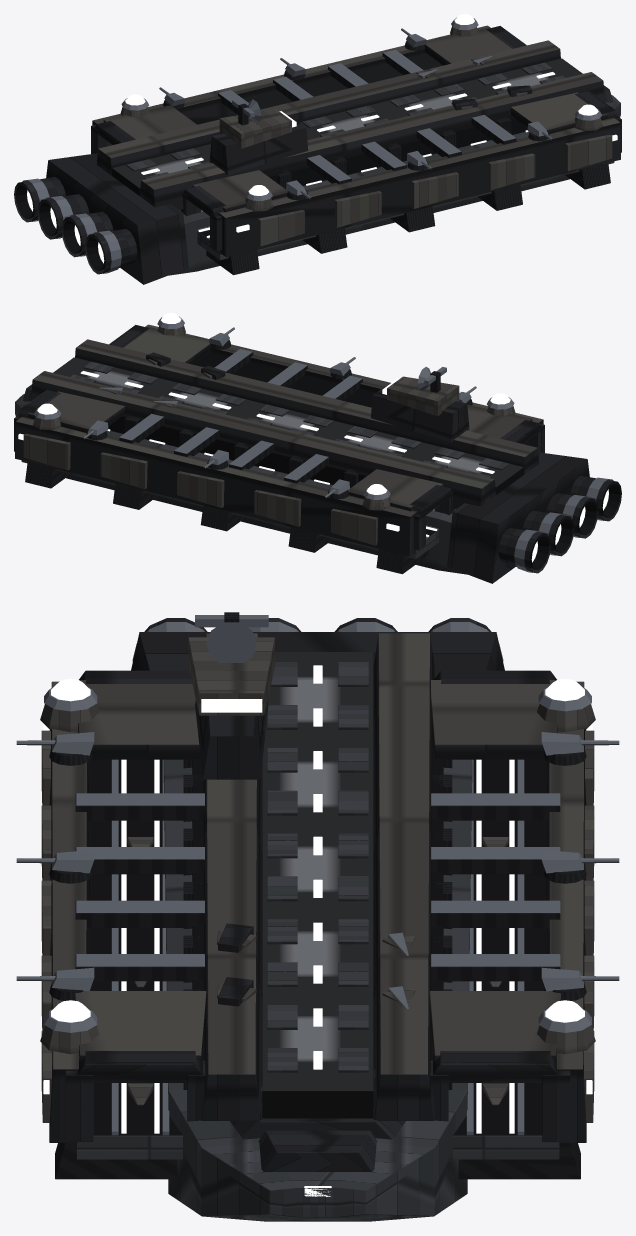
File: carrier.glb
3 renders of one model, top to bottom at view 1: azimuth 30°, elevation 25°; view 2: azimuth 150°, elevation 25°; view 3: azimuth 270°, elevation 25°, orthographic. The views are drawn at different scales.
Parts seen in each view (by area): view 1: hull_body, engine_block, sensor_island, shield_domes, weapon_turrets; view 2: hull_body, engine_block, sensor_island, shield_domes, weapon_turrets; view 3: hull_body, sensor_island, engine_block, shield_domes, weapon_turrets.
Part boxes in pixels (bbox=[...]): hull_body: bbox=[91, 25, 621, 275]; engine_block: bbox=[14, 153, 188, 284]; sensor_island: bbox=[209, 99, 308, 175]; shield_domes: bbox=[120, 14, 602, 211]; weapon_turrets: bbox=[159, 28, 553, 200]; hull_body: bbox=[14, 324, 544, 574]; engine_block: bbox=[447, 452, 621, 583]; sensor_island: bbox=[371, 367, 469, 442]; shield_domes: bbox=[33, 313, 515, 510]; weapon_turrets: bbox=[82, 327, 476, 499]; hull_body: bbox=[41, 633, 594, 1221]; sensor_island: bbox=[188, 612, 274, 779]; engine_block: bbox=[131, 618, 504, 677]; shield_domes: bbox=[40, 678, 595, 1054]; weapon_turrets: bbox=[16, 732, 619, 1000].
Bounding box in the file's own units: 55 × 13.7 × 26.14.
Materials: 1 (1 with a texture image).
